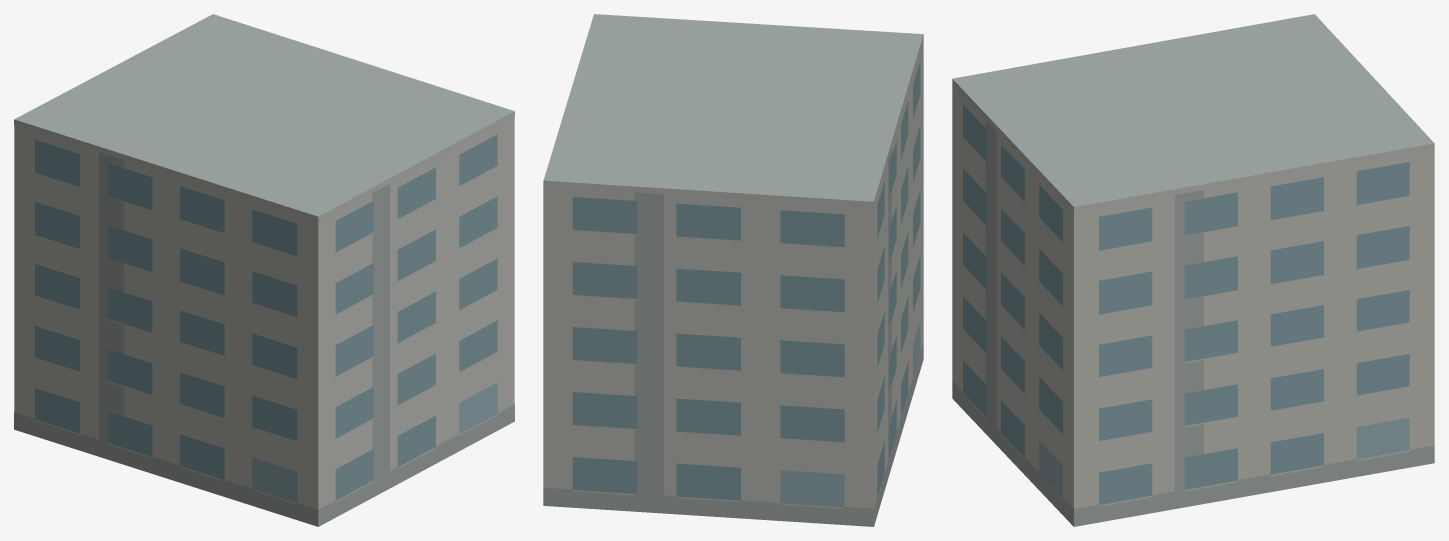
The model's file is survey-upis-32889249.glb.
3 renders of one model, left to right at view 1: azimuth 30°, elevation 25°; view 2: azimuth 150°, elevation 25°; view 3: azimuth 270°, elevation 25°, orthographic. The views are drawn at different scales.
Parts seen in each view (by area): view 1: survey-upis-32889249.tmp; view 2: survey-upis-32889249.tmp; view 3: survey-upis-32889249.tmp.
Boxes of the visible parts, bbox=[...] form: survey-upis-32889249.tmp: bbox=[14, 14, 514, 526]; survey-upis-32889249.tmp: bbox=[543, 14, 923, 526]; survey-upis-32889249.tmp: bbox=[952, 14, 1434, 526].
Bounding box in the file's own units: 17.16 × 13.25 × 18.12.
